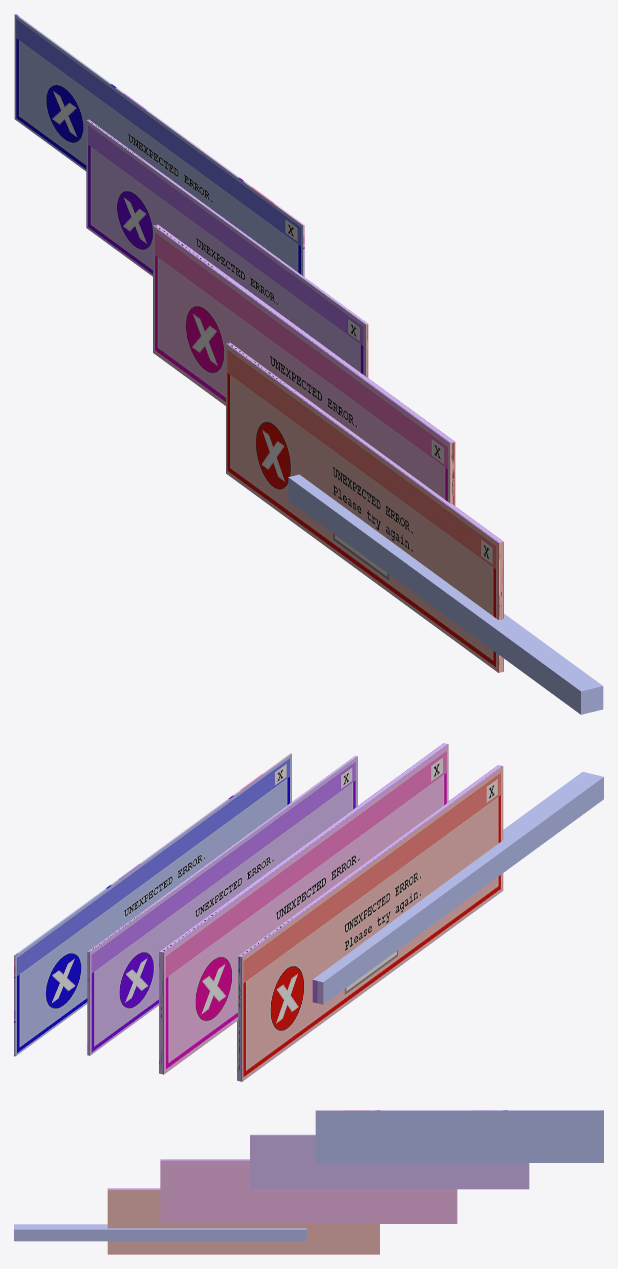
Rendered from Frame_Program_Retro_01.glb.
3 renders of one model, top to bottom at view 1: azimuth 30°, elevation 25°; view 2: azimuth 150°, elevation 25°; view 3: azimuth 270°, elevation 25°, orthographic. The views are drawn at different scales.
Visible parts, largest first — view 1: Frame_Program_Retro_01; view 2: Frame_Program_Retro_01; view 3: Frame_Program_Retro_01.
Boxes of the visible parts, x1,y1,x2,y2 form: Frame_Program_Retro_01: [14, 14, 603, 714]; Frame_Program_Retro_01: [14, 743, 603, 1081]; Frame_Program_Retro_01: [14, 1110, 603, 1254].
Size of the model in its own units: 0.1505 by 1.66 by 6.09.
1 material, 1 textured.
